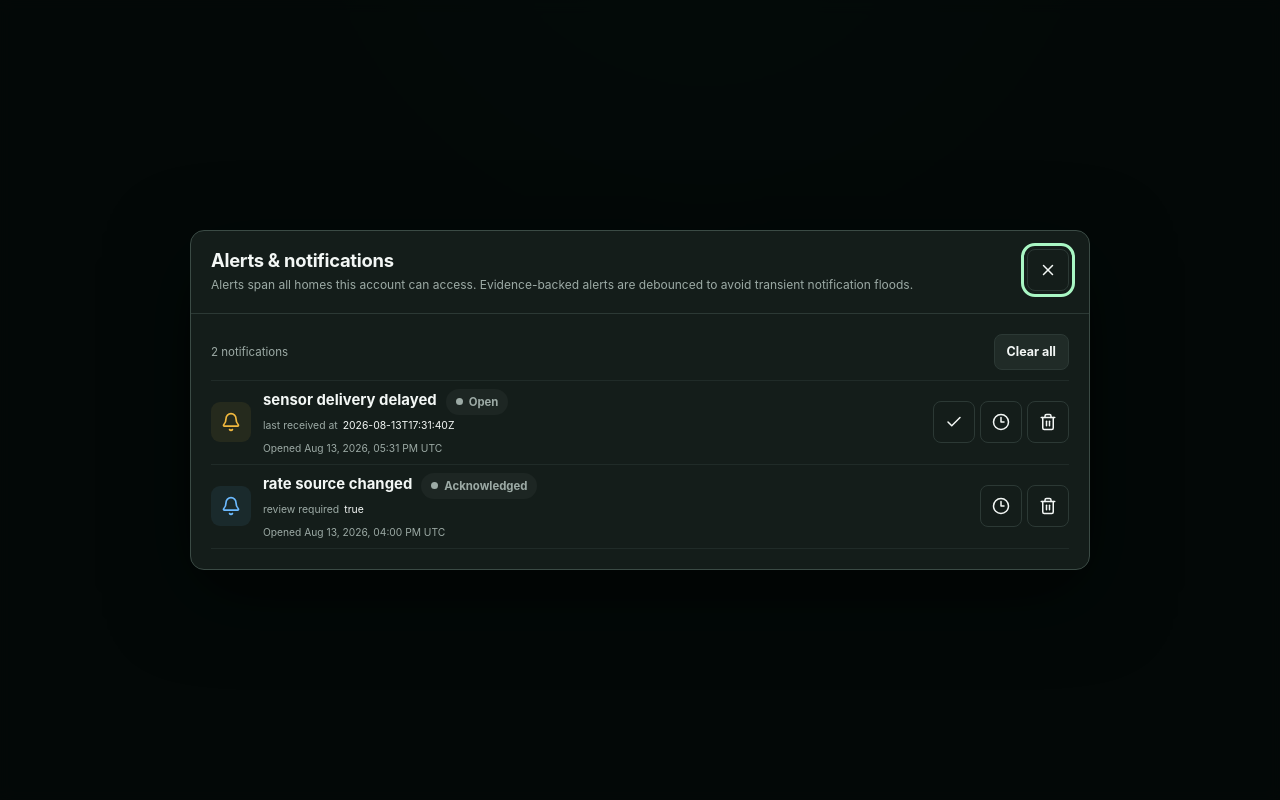
Test: Alert notification dismissal › removes one notification and can clear the remaining list
The width and height of the screenshot is (1280, 800).
Expected: the heading "sensor delivery delayed" is shown, [263, 391, 437, 409]
Expected: the text "2 notifications" is shown, [211, 345, 288, 359]
What coordinates should you click on to do the following:
click the button named "Remove sensor delivery delayed notification"
I would click on:
 (1048, 422)
Its box is [1027, 401, 1069, 443].
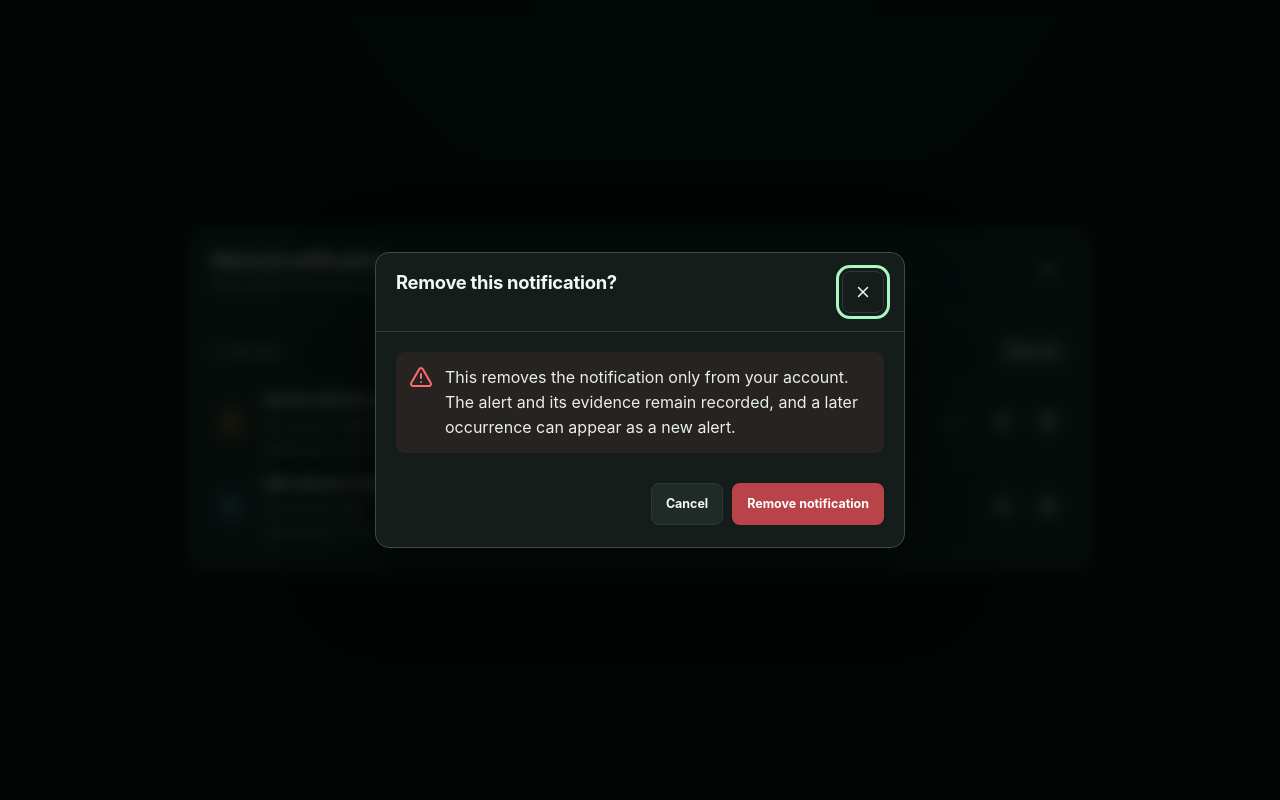
Now the text "only from your account" is shown, box [445, 367, 858, 437]
What coordinates should you click on to do the following:
click the button "Remove notification"
I would click on:
 (808, 504)
Its box is [732, 483, 884, 525].
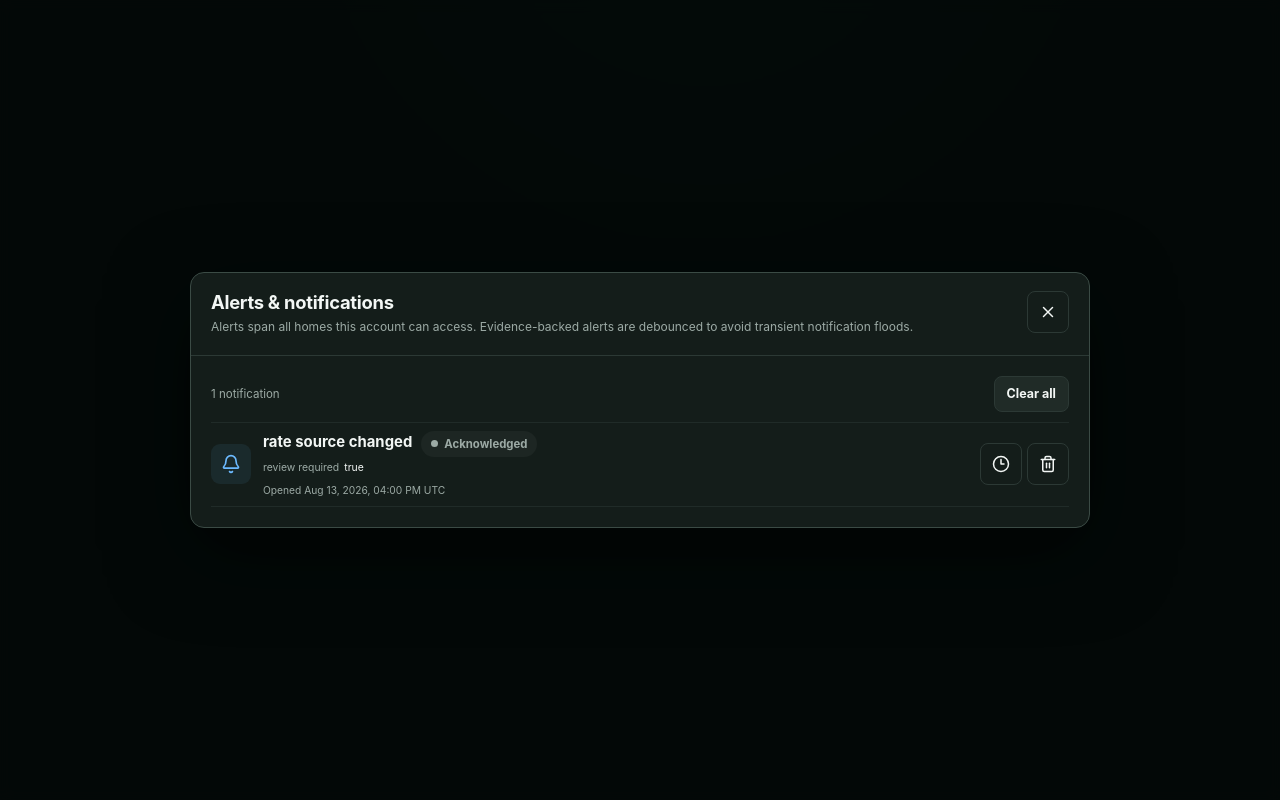
Now the heading "sensor delivery delayed" is gone
Now the text "1 notification" is shown, box [211, 387, 280, 401]
What coordinates should you click on to do the following:
click the button "Clear all"
I would click on:
 (1031, 394)
Its box is [994, 376, 1069, 412].
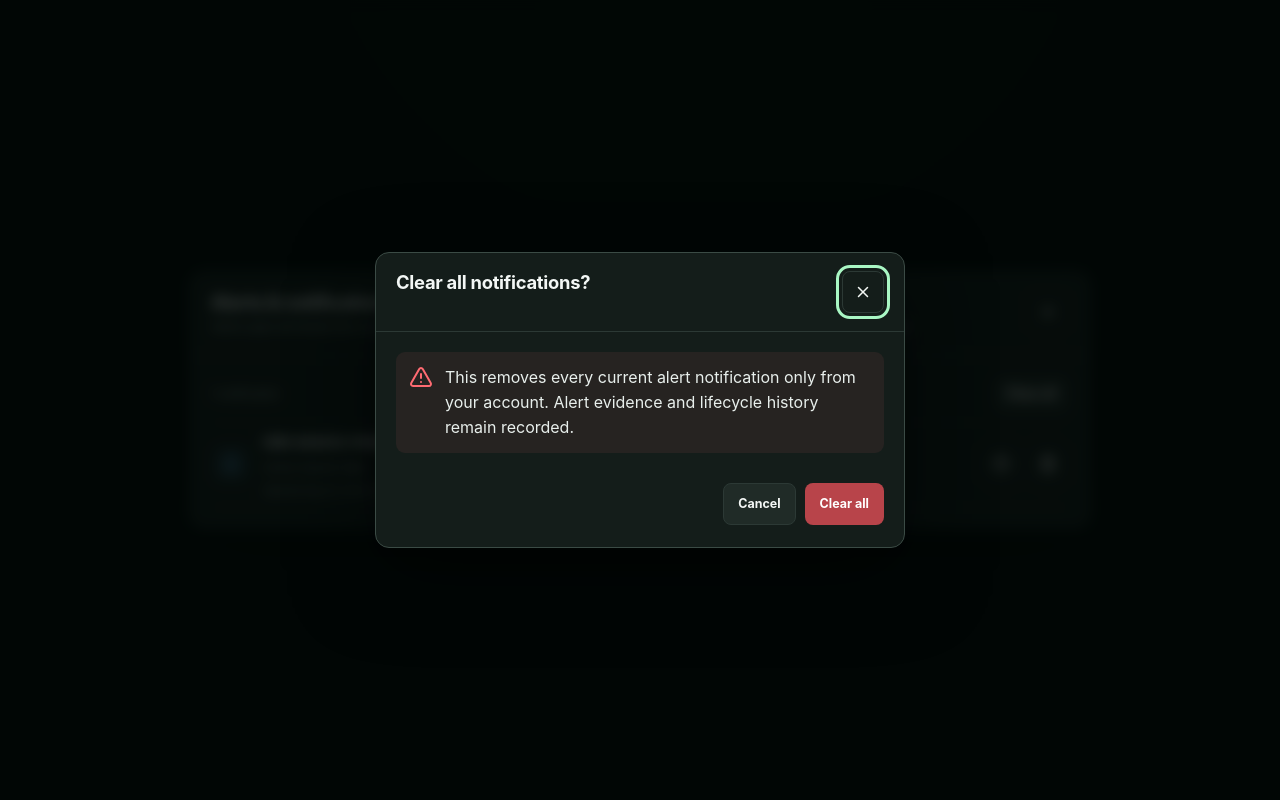
Now the text "Alert evidence and lifecycle history remain recorded" is shown, box [445, 367, 856, 437]
What coordinates should you click on to do the following:
click the button "Clear all"
I would click on:
 (844, 504)
Its box is [805, 483, 884, 525].
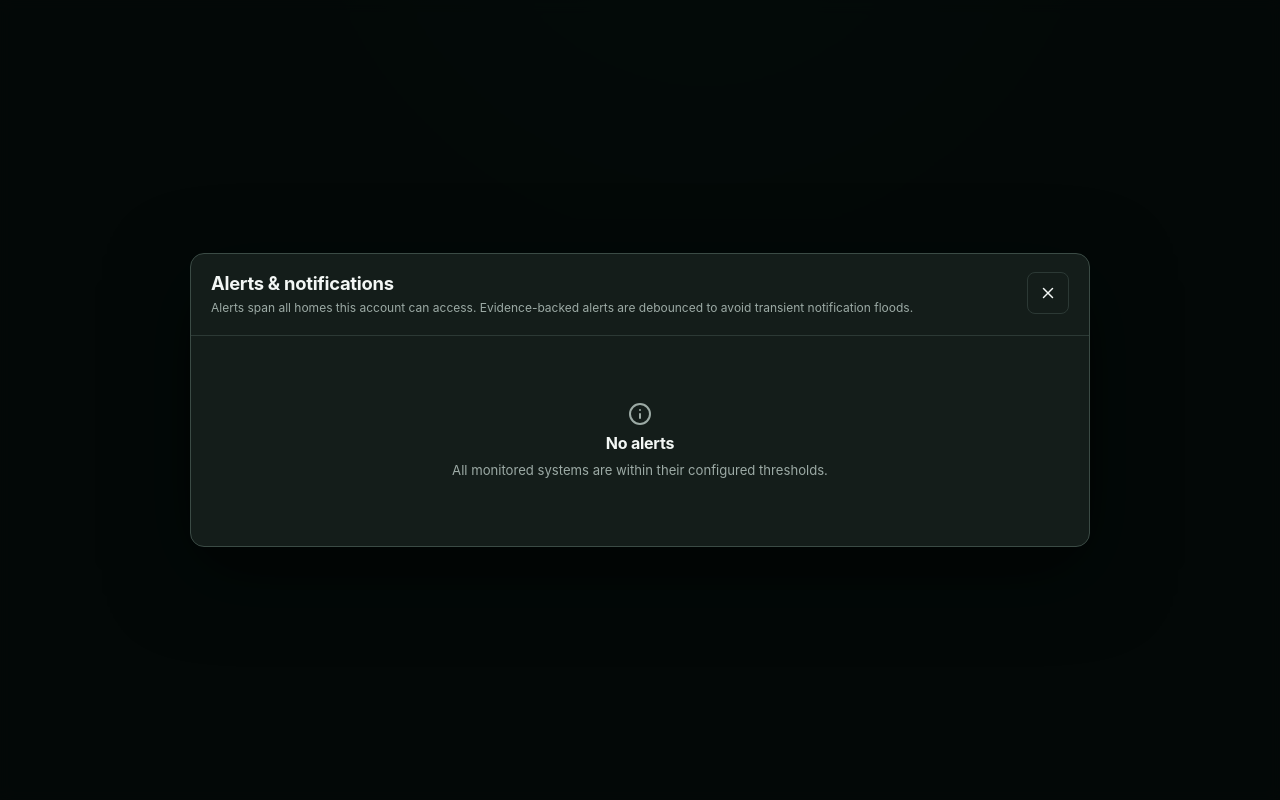
Now the heading "No alerts" is shown, box [606, 433, 674, 453]
